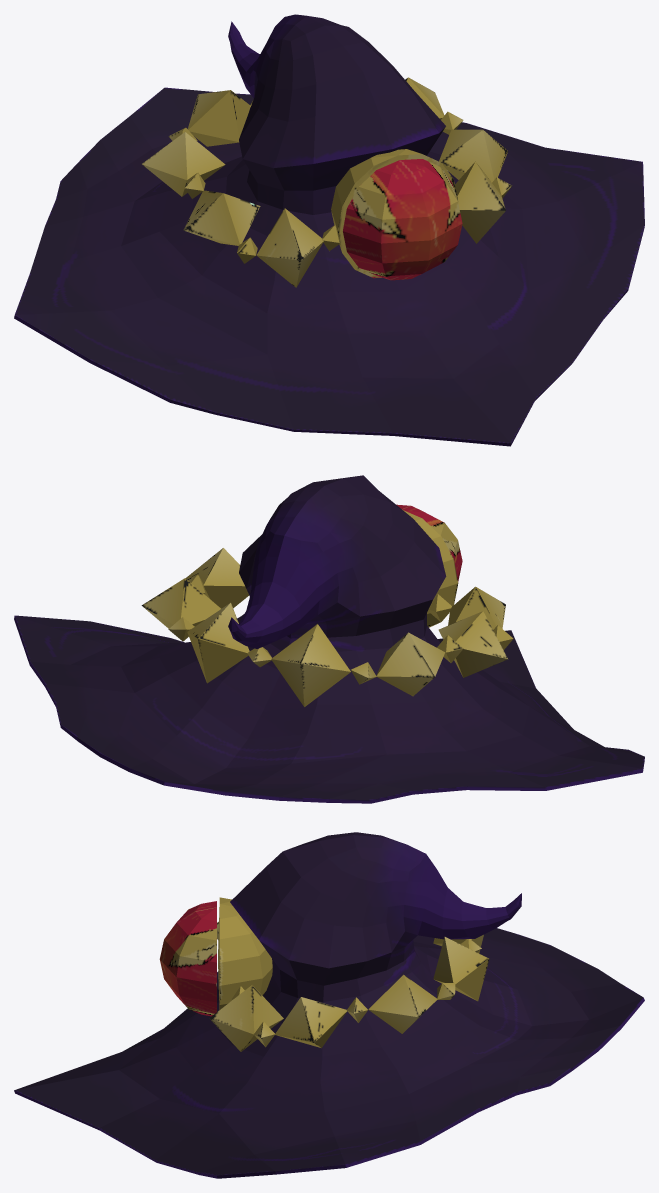
File: MageDarkHat_export.fbx
3 renders of one model, top to bottom at view 1: azimuth 30°, elevation 25°; view 2: azimuth 150°, elevation 25°; view 3: azimuth 270°, elevation 25°, orthographic. The views are drawn at different scales.
Visible parts, largest first — view 1: chapeu trevas; view 2: chapeu trevas; view 3: chapeu trevas.
Boxes of the visible parts, x1=… form: chapeu trevas: x1=14, y1=14, x2=644, y2=446; chapeu trevas: x1=14, y1=475, x2=644, y2=803; chapeu trevas: x1=14, y1=832, x2=644, y2=1178.
Size of the model in its own units: 0.8119 by 0.3612 by 0.7766.
